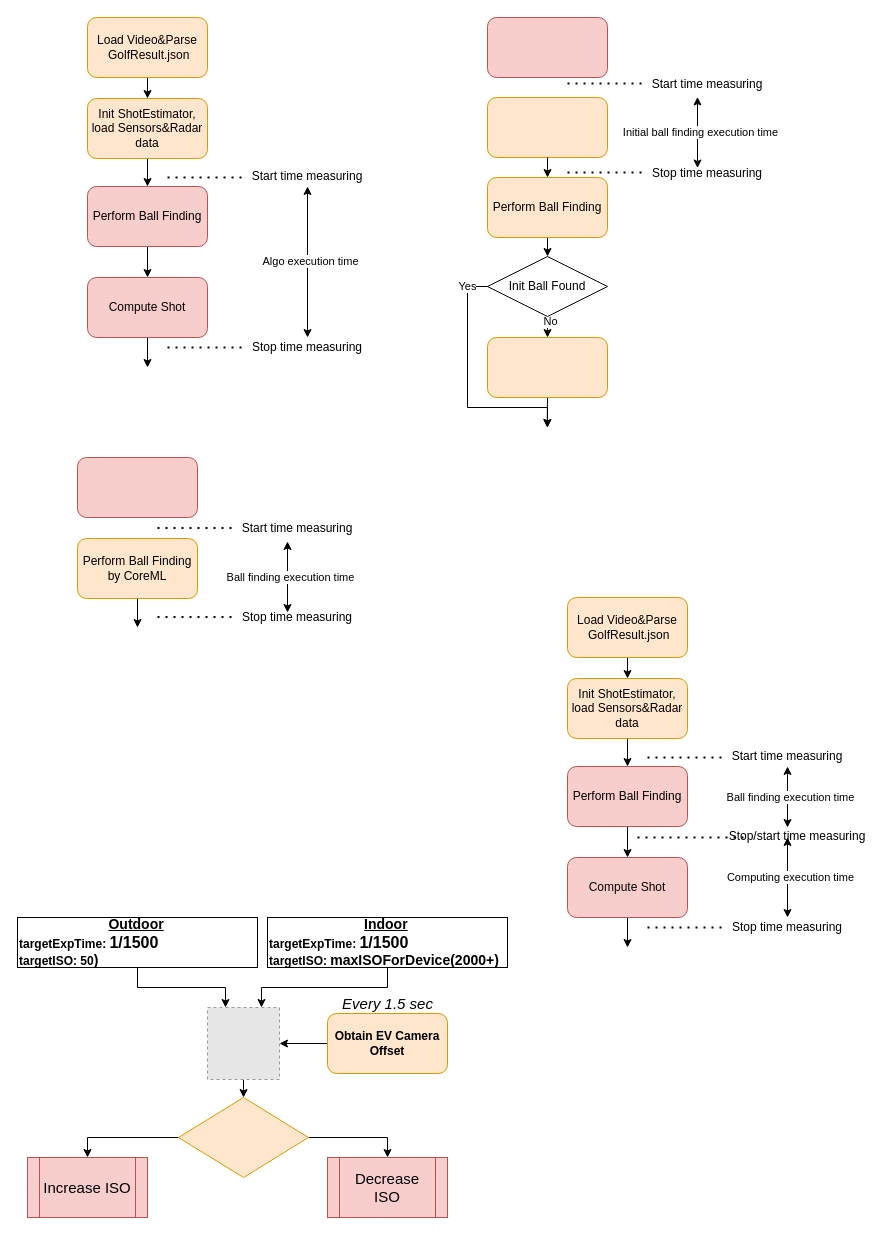
The diagram is 885 pixels wide and 1235 high, and some of its shapes have lost their labels. Grey dashed boxes stand in for pictures. The box of each missing label's shape, as (x1, y1, x2, y2) in pixels:
EV Offset > 0: (178, 1096, 308, 1178)
Perform Ball Finding (Indoor): (76, 456, 198, 518)
Perform Ball Finding (Outdoor): (486, 16, 608, 78)
Perform Initial Ball Finding (non-DL approach): (486, 336, 608, 398)
Perform Initial Ball Finding by CoreML: (486, 96, 608, 158)
